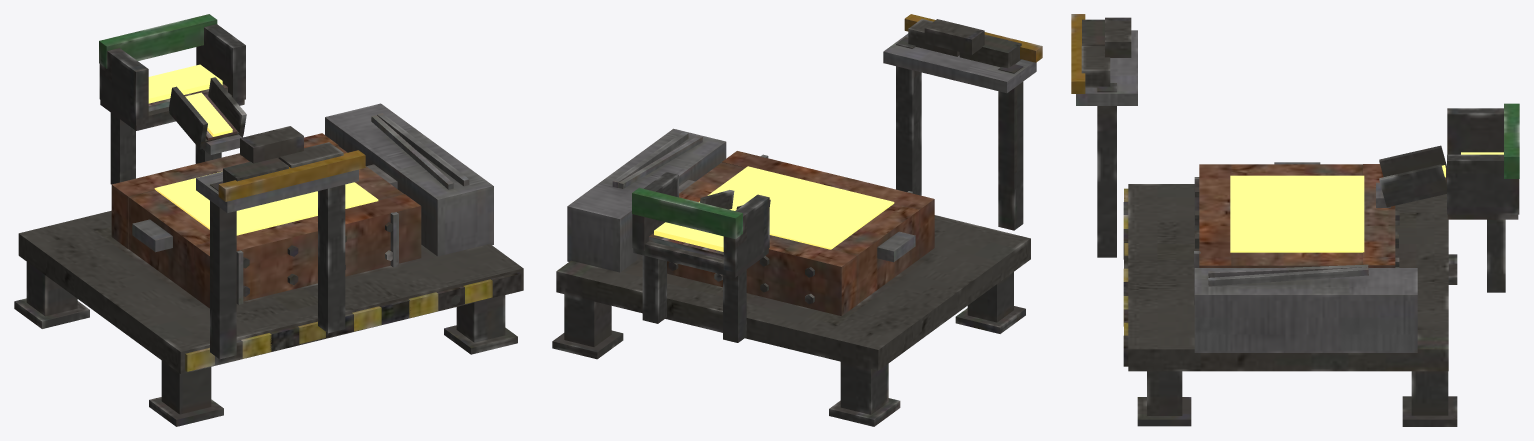
The model's file is feCaster.glb.
3 renders of one model, left to right at view 1: azimuth 30°, elevation 25°; view 2: azimuth 150°, elevation 25°; view 3: azimuth 270°, elevation 25°, orthographic. The views are drawn at different scales.
Parts seen in each view (by area): view 1: feCaster_Base, FeCastMetal, FeCastReady; view 2: feCaster_Base, FeCastMetal, FeCastReady; view 3: feCaster_Base, FeCastMetal, FeCastReady.
Part boxes in pixels (bbox=[...]): feCaster_Base: bbox=[14, 14, 523, 426]; FeCastMetal: bbox=[154, 171, 378, 235]; FeCastReady: bbox=[223, 126, 343, 182]; feCaster_Base: bbox=[552, 14, 1042, 426]; FeCastMetal: bbox=[699, 166, 894, 249]; FeCastReady: bbox=[908, 19, 1021, 68]; feCaster_Base: bbox=[1071, 14, 1519, 426]; FeCastMetal: bbox=[1230, 175, 1364, 252]; FeCastReady: bbox=[1081, 17, 1131, 87].
Size of the model in its own units: 0.8948 by 0.6819 by 1.01.
3 materials, 1 textured.
